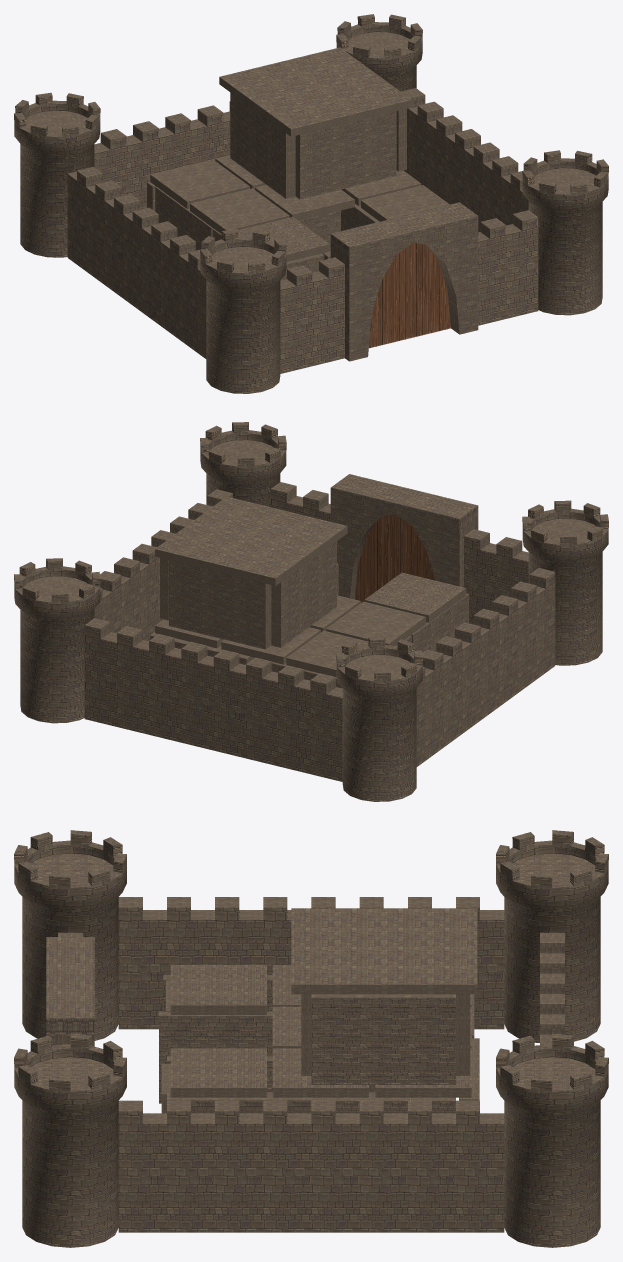
The model's file is Castle.FBX.
3 renders of one model, top to bottom at view 1: azimuth 30°, elevation 25°; view 2: azimuth 150°, elevation 25°; view 3: azimuth 270°, elevation 25°, orthographic. The views are drawn at different scales.
Visible parts, largest first — view 1: Entrance, Tower 002, Tower 003, InnerWall 027, Tower 001, InnerWall 023, Wall 016, Wall 013, Tower 004, InnerWall 026, Wall 003, Wall 001 (+19 smaller); view 2: Entrance, Tower 001, Tower 004, InnerWall 027, Tower 002, InnerWall 038, Wall 010, Wall 012, Wall 011, Wall 009, Tower 003, InnerWall 026 (+18 smaller); view 3: Tower 004, Tower 003, Tower 001, InnerWall 027, Tower 002, InnerWall 025, Wall 006, Wall 007, Wall 008, Wall 005, Wall 004, Entrance (+18 smaller).
Part boxes in pixels (<box>): Entrance: <box>330,202,478,361</box>; Tower 002: <box>200,229,286,393</box>; Tower 003: <box>522,150,608,315</box>; InnerWall 027: <box>219,47,411,136</box>; Tower 001: <box>14,92,100,257</box>; InnerWall 023: <box>295,111,396,199</box>; Wall 016: <box>280,257,344,373</box>; Wall 013: <box>478,210,538,325</box>; Tower 004: <box>336,14,422,91</box>; InnerWall 026: <box>230,92,295,198</box>; Wall 003: <box>142,221,195,339</box>; Wall 001: <box>67,166,121,284</box>; Entrance: <box>330,474,478,602</box>; Tower 001: <box>336,637,422,801</box>; Tower 004: <box>14,558,100,723</box>; InnerWall 027: <box>155,496,347,585</box>; Tower 002: <box>522,500,608,665</box>; InnerWall 038: <box>169,560,271,649</box>; Wall 010: <box>213,649,277,766</box>; Wall 012: <box>84,618,148,734</box>; Wall 011: <box>149,634,213,750</box>; Wall 009: <box>278,665,342,781</box>; Tower 003: <box>200,422,286,506</box>; InnerWall 026: <box>271,541,336,647</box>; Tower 004: <box>496,1033,608,1247</box>; Tower 003: <box>14,1033,126,1247</box>; Tower 001: <box>496,830,608,1042</box>; InnerWall 027: <box>291,908,477,994</box>; Tower 002: <box>14,830,126,1040</box>; InnerWall 025: <box>311,994,455,1084</box>; Wall 006: <box>311,1100,407,1232</box>; Wall 007: <box>215,1100,311,1232</box>; Wall 008: <box>118,1100,214,1232</box>; Wall 005: <box>408,1100,504,1232</box>; Wall 004: <box>118,897,214,1029</box>; Entrance: <box>46,937,94,1046</box>.
Size of the model in its own units: 247 by 91.42 by 247.
2 materials, 2 textured.
